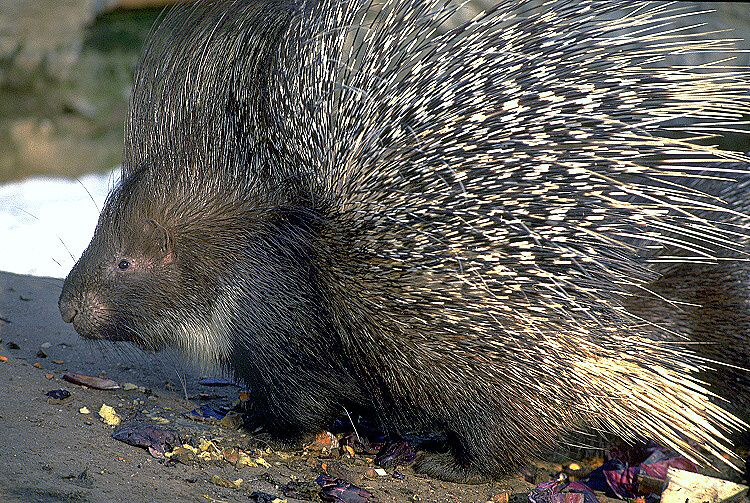porcupine: (47, 1, 750, 451)
